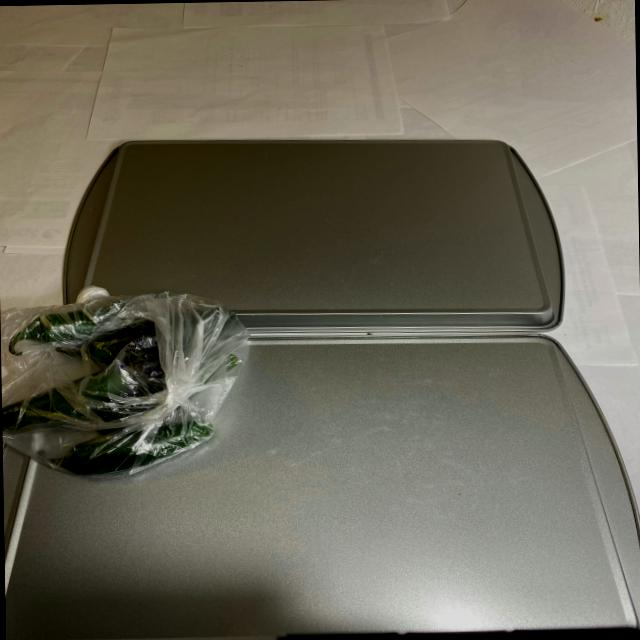chilli: (7, 300, 248, 472)
